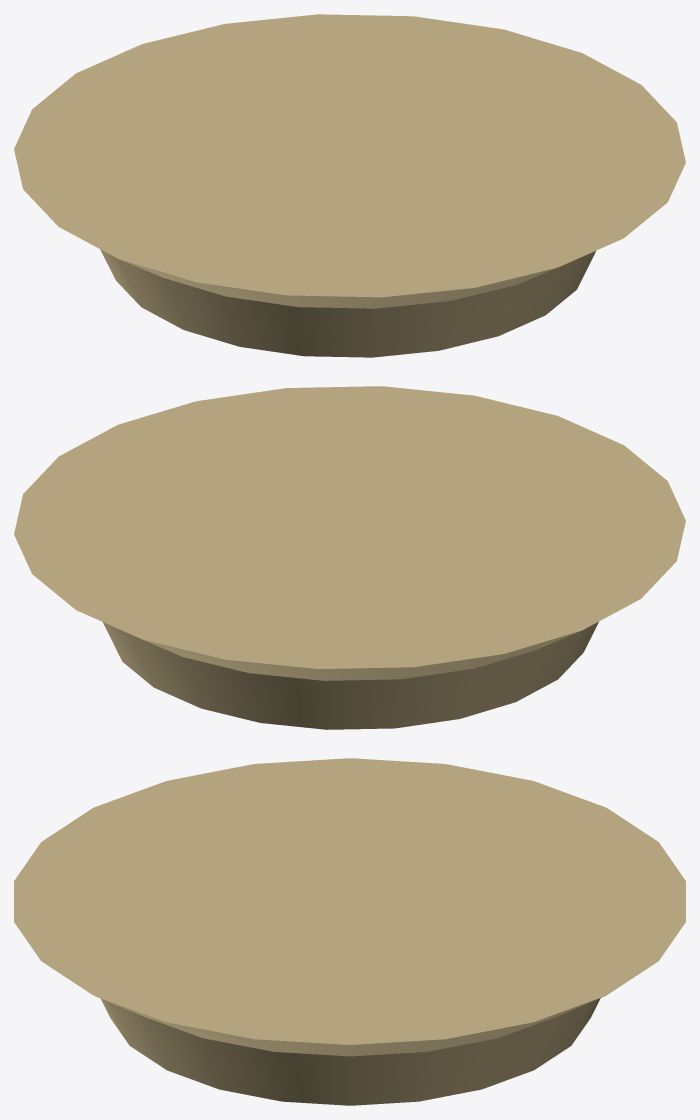
Rendered from Focus.fbx.
The picture shows the model from 3 angles, top to bottom: view 1: azimuth 30°, elevation 25°; view 2: azimuth 150°, elevation 25°; view 3: azimuth 270°, elevation 25°; orthographic projection.
Parts seen in each view (by area): view 1: focus light; view 2: focus light; view 3: focus light.
Part boxes in pixels (x1=…): focus light: x1=14, y1=14, x2=685, y2=357; focus light: x1=14, y1=386, x2=685, y2=729; focus light: x1=14, y1=758, x2=685, y2=1105.
Bounding box in the file's own units: 27.17 × 4.49 × 26.89.
Materials: 2 (2 with a texture image).
